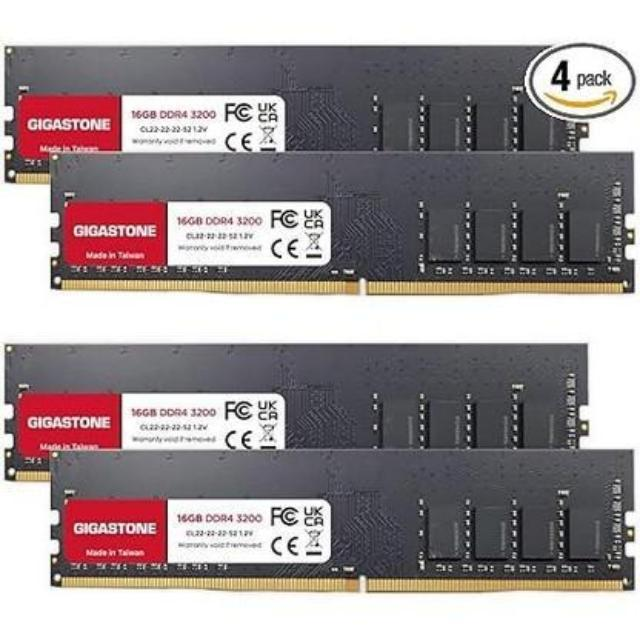RAM: (0, 36, 640, 302), (1, 334, 638, 594)
